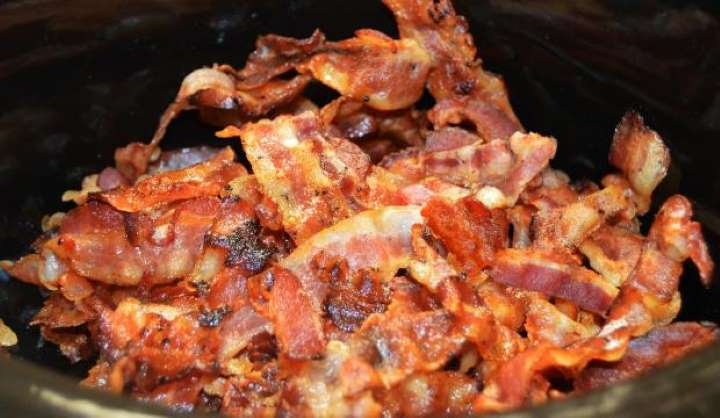bacon: (181, 105, 458, 316)
